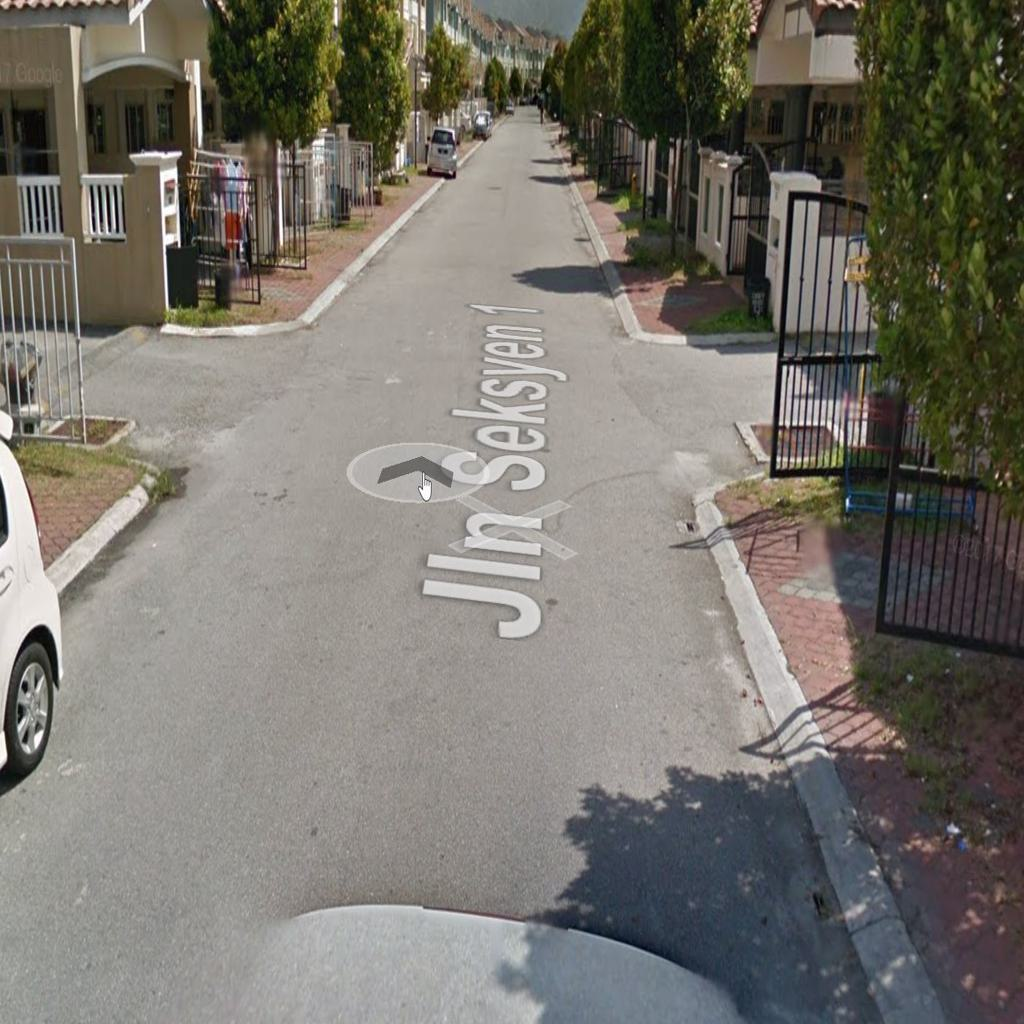Junction: (9, 296, 358, 515), (574, 309, 874, 515)
